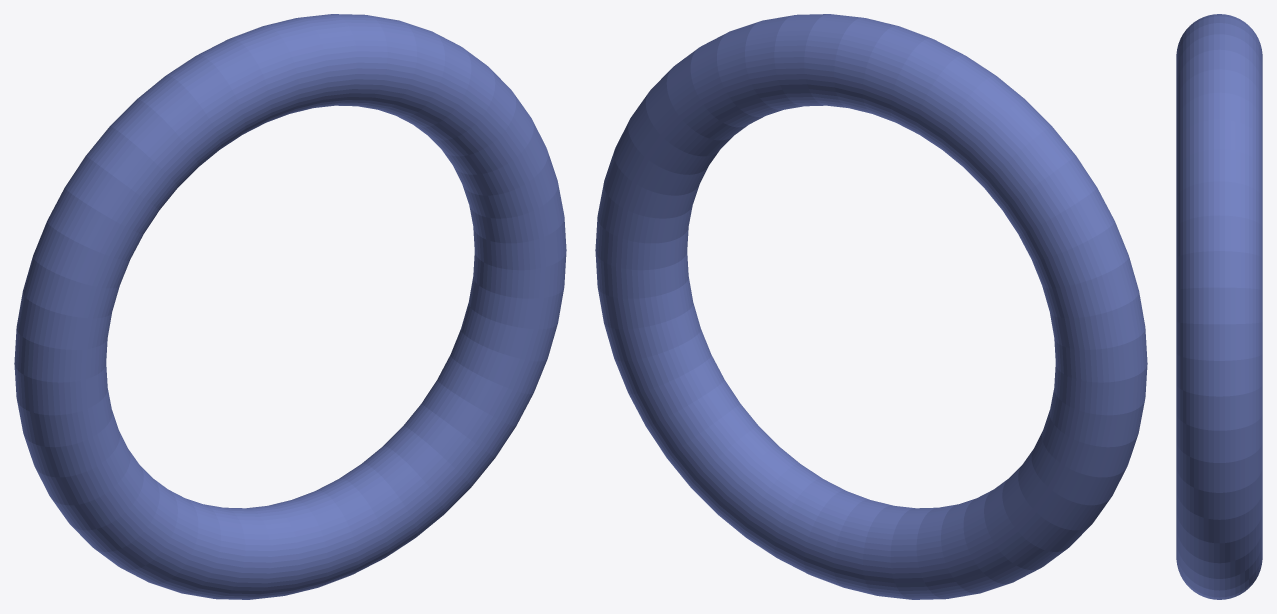
3 views of the same model, side by side, from view 1: azimuth 30°, elevation 25°; view 2: azimuth 150°, elevation 25°; view 3: azimuth 270°, elevation 25° (orthographic). The views are drawn at different scales.
Visible parts, largest first — view 1: world; view 2: world; view 3: world.
Part boxes in pixels (x1,y1,x2,y2): world: (14,14,566,599); world: (595,14,1147,599); world: (1176,14,1262,599).
Bounding box in the file's own units: 17.2 × 17.17 × 2.53.
